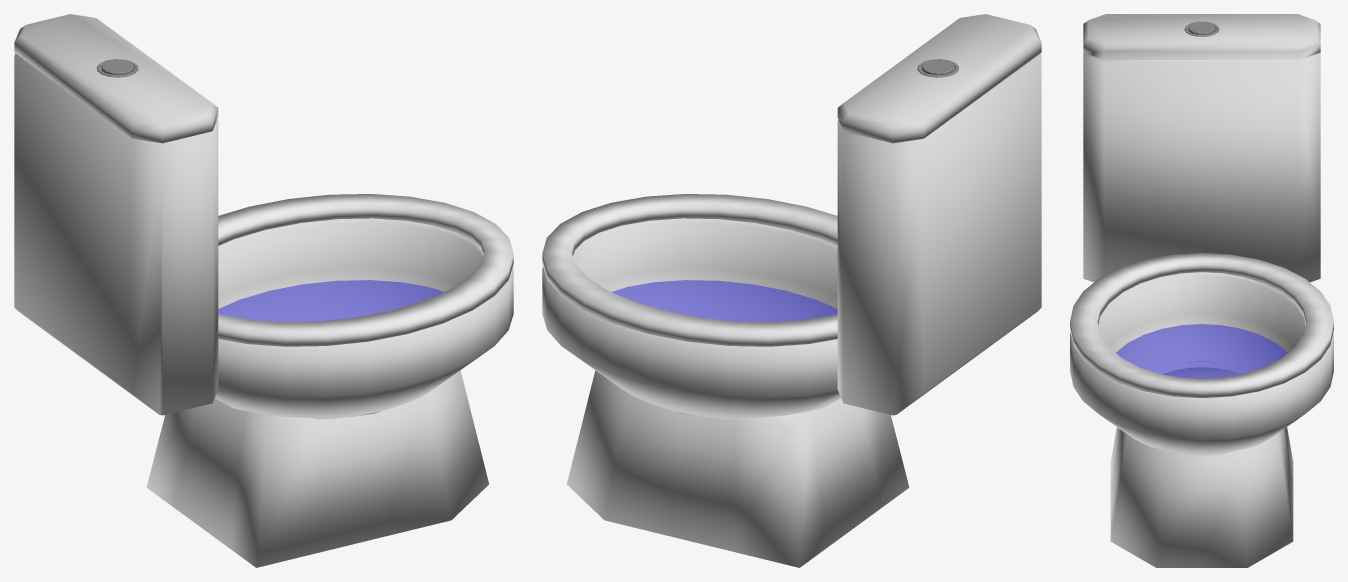
File: toilet.glb
3 views of the same model, side by side, from view 1: azimuth 30°, elevation 25°; view 2: azimuth 150°, elevation 25°; view 3: azimuth 270°, elevation 25° (orthographic). The views are drawn at different scales.
Visible parts, largest first — view 1: Circle, Circle.001; view 2: Circle, Circle.001; view 3: Circle, Circle.001.
Part boxes in pixels (<box>): Circle: <box>14,14,513,567</box>; Circle.001: <box>218,280,443,322</box>; Circle: <box>542,14,1041,567</box>; Circle.001: <box>612,280,837,322</box>; Circle: <box>1070,14,1333,567</box>; Circle.001: <box>1116,324,1287,378</box>.
Size of the model in its own units: 1.17 by 1.28 by 0.7634.
